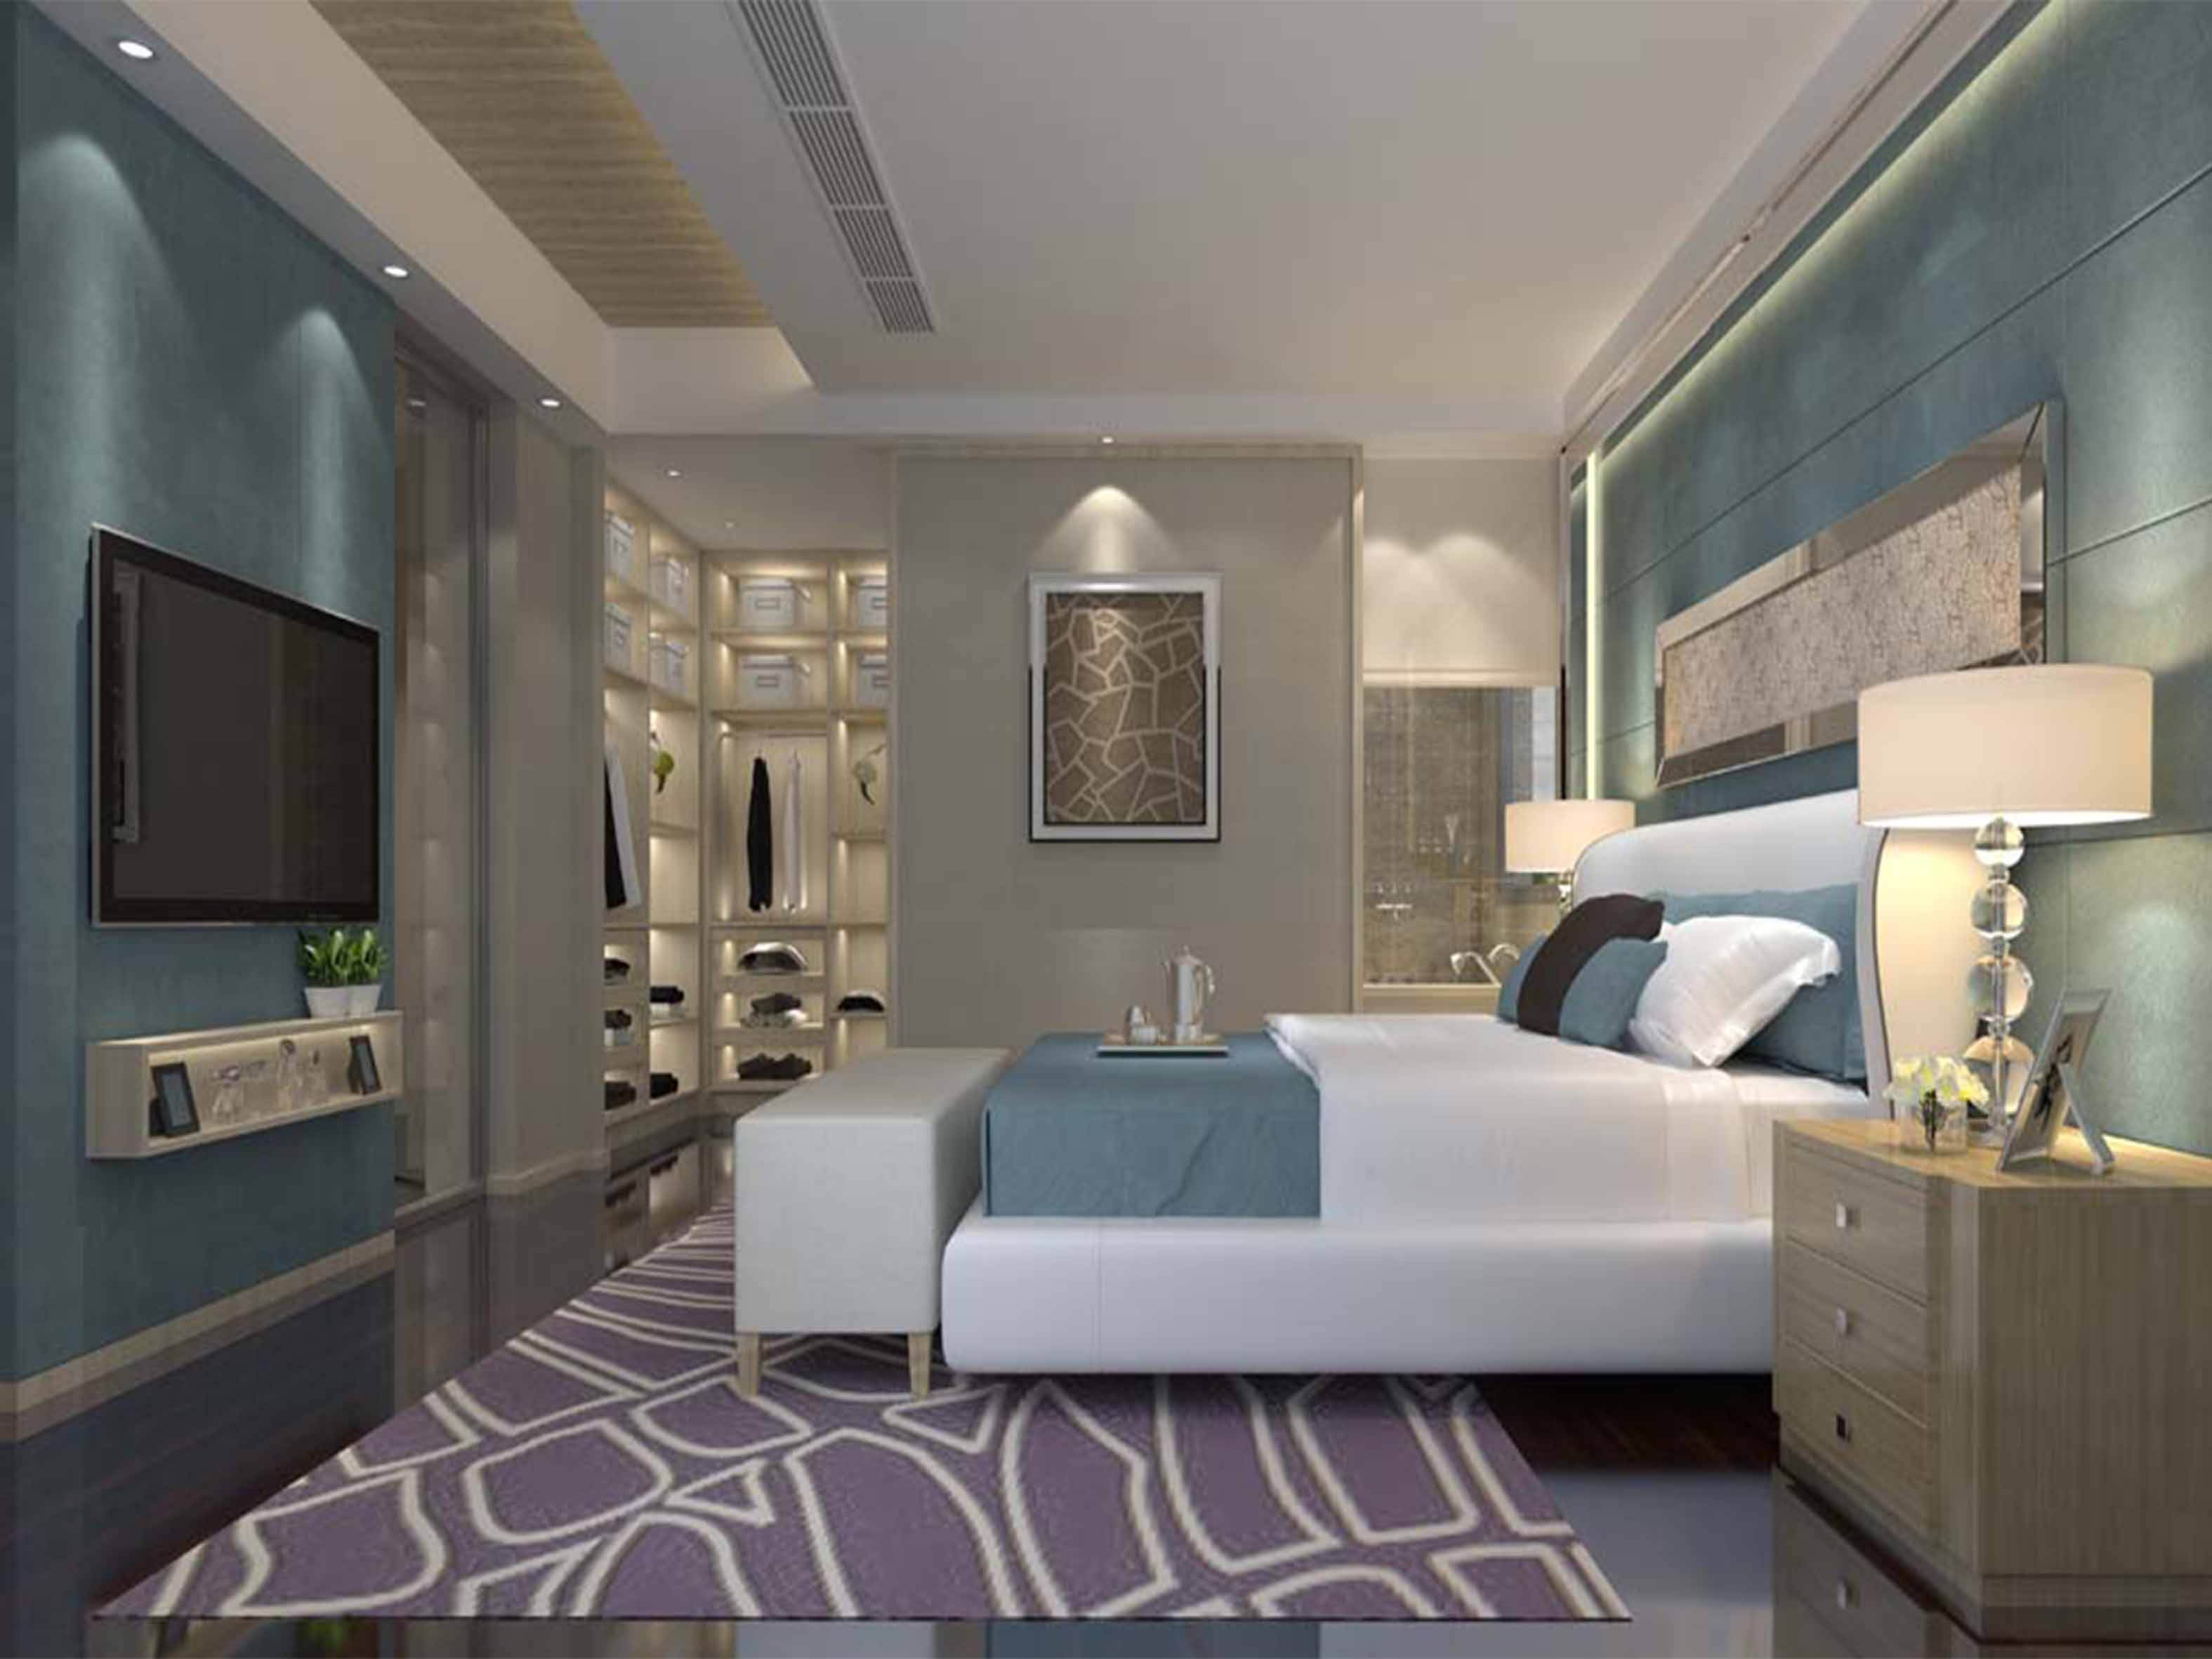床: (982, 1028, 1886, 1389)
枕头: (1501, 899, 1841, 1072)
灯: (1848, 657, 2144, 1136), (1498, 802, 1632, 894), (105, 17, 169, 77), (373, 254, 420, 293), (529, 390, 566, 416)
